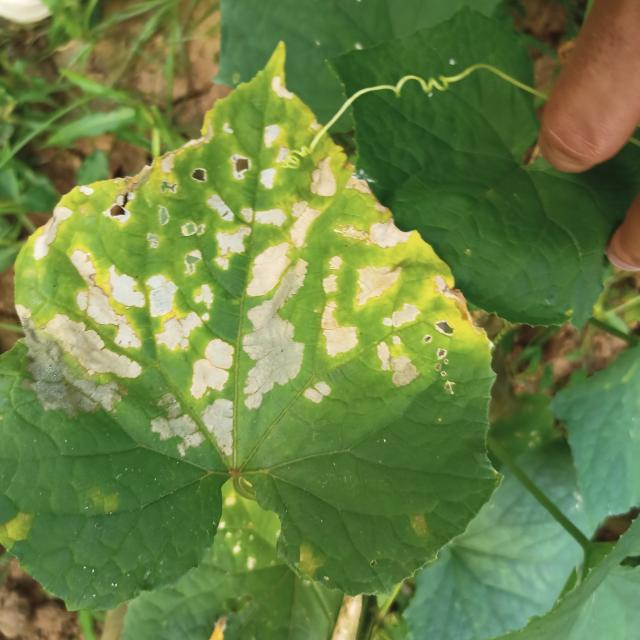disease_cucumber: (12, 84, 446, 462), (1, 500, 37, 550)
